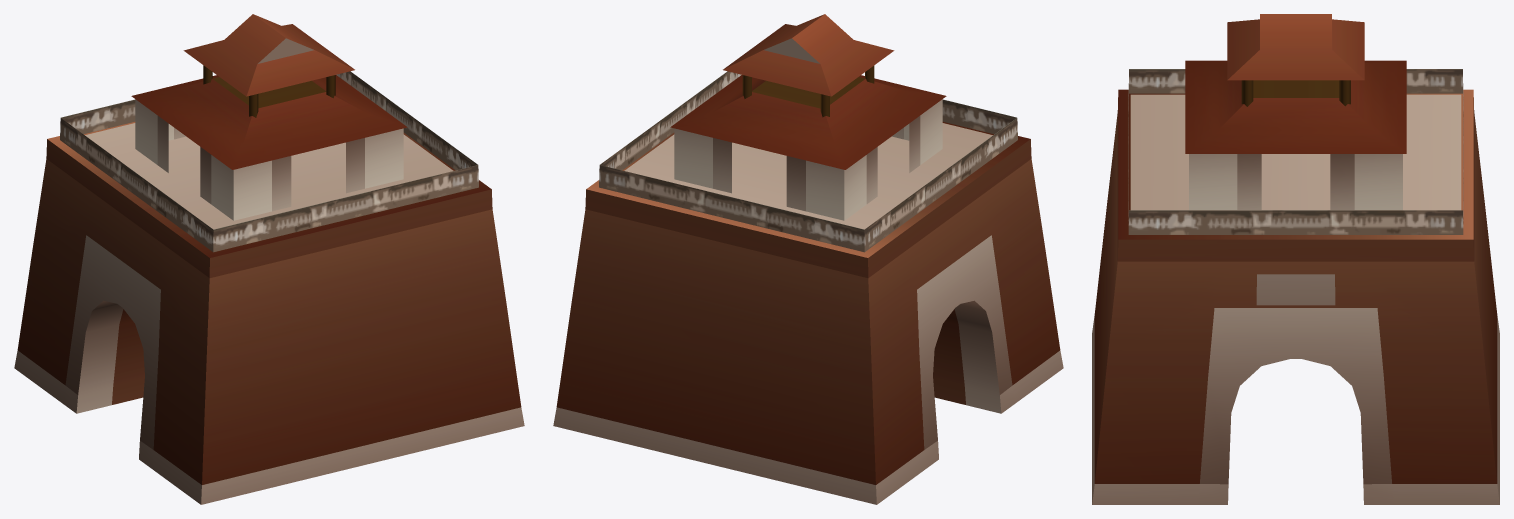
Rendered from SM_Building_CuaBac.fbx.
3 renders of one model, left to right at view 1: azimuth 30°, elevation 25°; view 2: azimuth 150°, elevation 25°; view 3: azimuth 270°, elevation 25°, orthographic. The views are drawn at different scales.
Visible parts, largest first — view 1: SM_Building_CuaBac; view 2: SM_Building_CuaBac; view 3: SM_Building_CuaBac.
Part boxes in pixels (x1,y1,x2,y2): SM_Building_CuaBac: [14, 14, 524, 504]; SM_Building_CuaBac: [553, 14, 1063, 504]; SM_Building_CuaBac: [1092, 14, 1499, 504].
Size of the model in its own units: 14.88 by 16.31 by 14.88.
